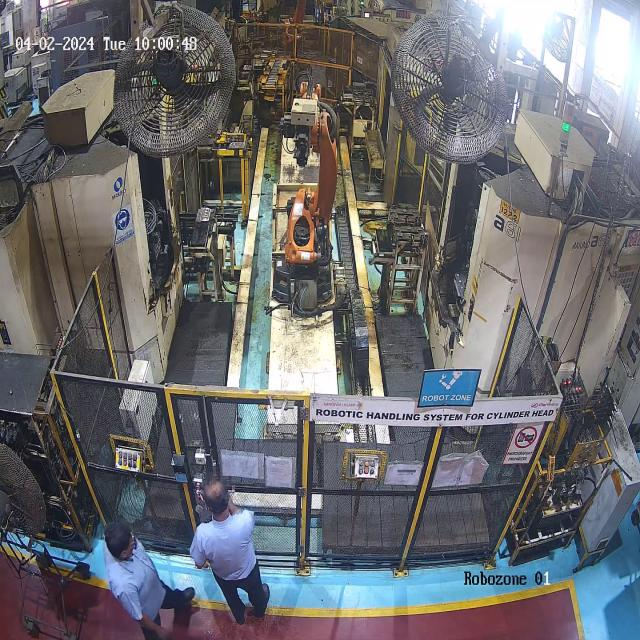person: (188, 477, 273, 620), (100, 517, 186, 635)
